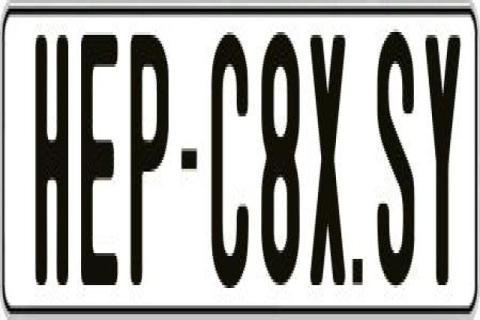0: (258, 27, 303, 297)
C: (209, 35, 249, 294)
E: (80, 35, 122, 299)
H: (35, 27, 73, 280)
P: (129, 32, 173, 282)
S: (378, 29, 416, 297)
X: (308, 32, 348, 282)
Y: (422, 35, 463, 291)
